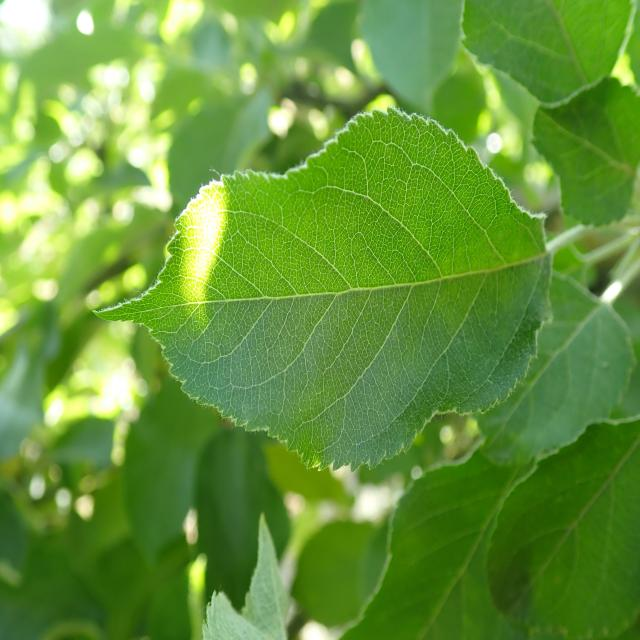healthy: (91, 103, 554, 474), (458, 1, 640, 227), (337, 446, 533, 640), (485, 414, 640, 640), (475, 270, 637, 468), (458, 0, 636, 107), (532, 76, 640, 227)
